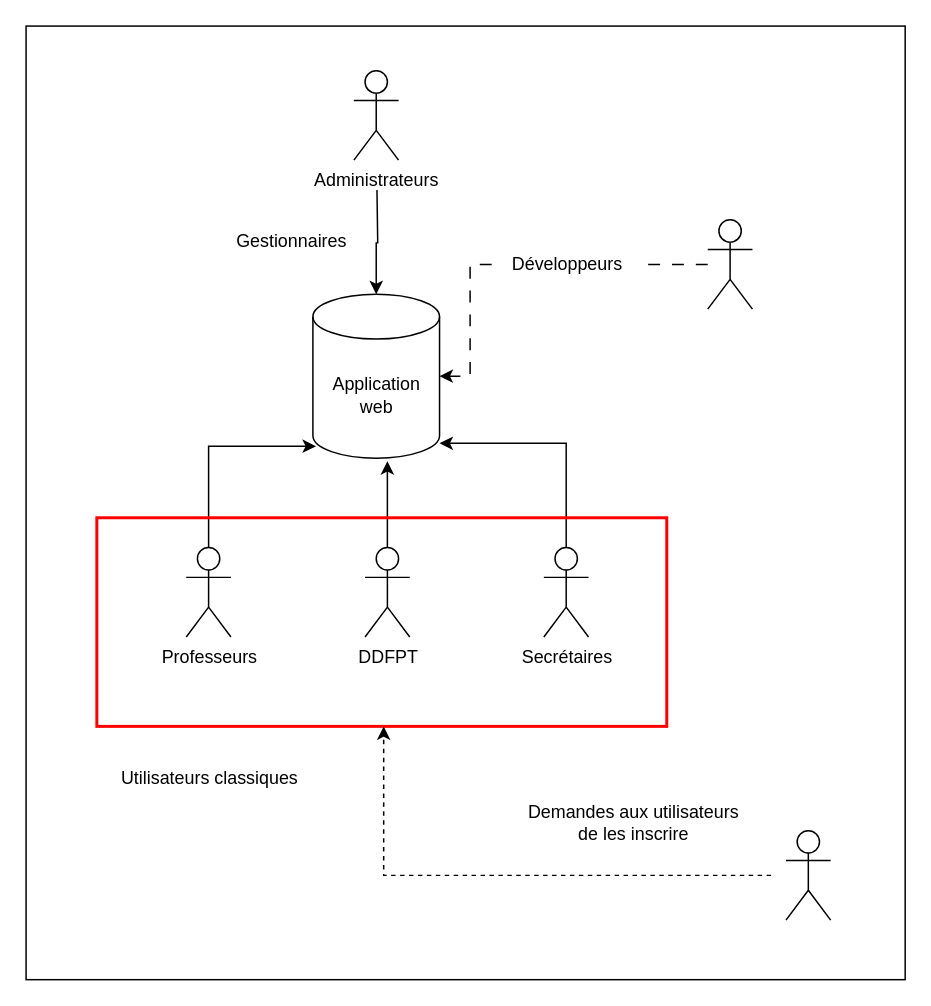
The diagram is 931 pixels wide and 1006 high, and some of its shapes have lost their labels. Here are the shapes that lost their labels. From the top down, the centre of each, then its label:
At point 729,263: "Étudiants".
At point 807,874: "Élèves".
